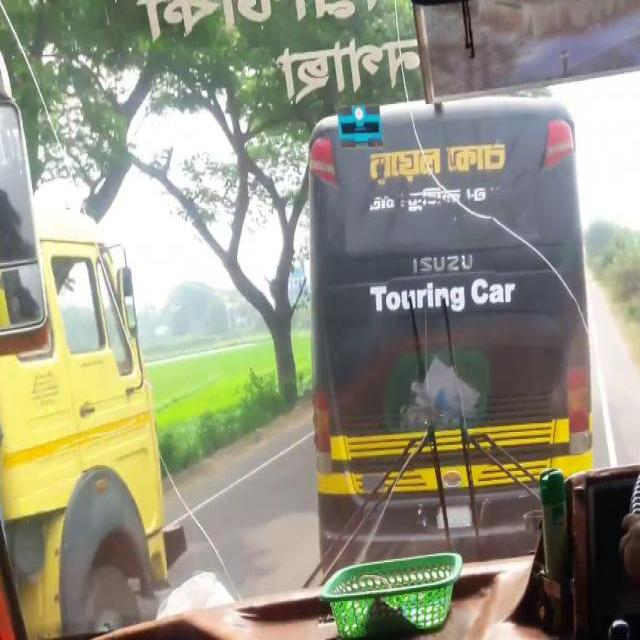18: (1, 238, 182, 636)
Truck: (305, 99, 583, 573)
